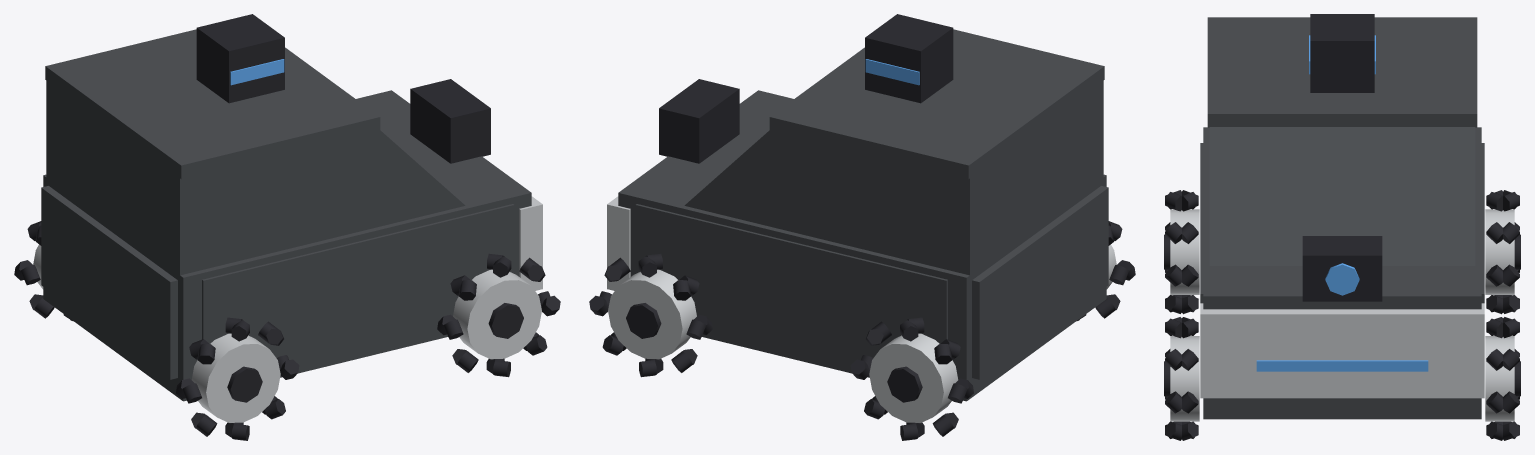
Rendered from ugv_m1.glb.
3 renders of one model, left to right at view 1: azimuth 30°, elevation 25°; view 2: azimuth 150°, elevation 25°; view 3: azimuth 270°, elevation 25°, orthographic.
Parts seen in each view (by area): view 1: Deck, SideArmorL, Roof, Hull, RearPanel, WheelFL, WheelRL, Lidar, FrontCamera, NosePlate, WheelRR, LidarBand; view 2: Deck, SideArmorR, Roof, Hull, RearPanel, WheelFR, WheelRR, Lidar, FrontCamera, NosePlate, WheelRL, LidarBand; view 3: Deck, Roof, NosePlate, Hull, FrontCamera, Lidar, WheelFL, WheelFR, WheelRL, WheelRR, NoseLed, SideArmorR (+1 smaller).
Boxes of the visible parts, x1=… form: Deck: x1=46, y1=80, x2=465, y2=275; SideArmorL: x1=202, y1=204, x2=514, y2=357; Roof: x1=45, y1=29, x2=380, y2=178; Hull: x1=43, y1=90, x2=531, y2=401; RearPanel: x1=41, y1=186, x2=177, y2=379; WheelFL: x1=437, y1=253, x2=560, y2=377; WheelRL: x1=176, y1=317, x2=299, y2=440; Lidar: x1=196, y1=14, x2=284, y2=103; FrontCamera: x1=410, y1=79, x2=490, y2=163; NosePlate: x1=519, y1=196, x2=542, y2=290; WheelRR: x1=14, y1=221, x2=73, y2=321; LidarBand: x1=230, y1=59, x2=284, y2=85; Deck: x1=684, y1=80, x2=1103, y2=275; SideArmorR: x1=635, y1=204, x2=947, y2=357; Roof: x1=769, y1=29, x2=1104, y2=178; Hull: x1=618, y1=90, x2=1106, y2=401; RearPanel: x1=972, y1=186, x2=1108, y2=379; WheelFR: x1=589, y1=253, x2=712, y2=377; WheelRR: x1=850, y1=317, x2=973, y2=440; Lidar: x1=865, y1=14, x2=953, y2=103; FrontCamera: x1=659, y1=79, x2=739, y2=163; NosePlate: x1=607, y1=196, x2=630, y2=290; WheelRL: x1=1076, y1=221, x2=1135, y2=321; LidarBand: x1=865, y1=59, x2=919, y2=85; Deck: x1=1209, y1=127, x2=1475, y2=265; Roof: x1=1207, y1=17, x2=1477, y2=127; NosePlate: x1=1200, y1=303, x2=1484, y2=398; Hull: x1=1203, y1=127, x2=1481, y2=419; FrontCamera: x1=1302, y1=236, x2=1382, y2=301; Lidar: x1=1310, y1=14, x2=1374, y2=92; WheelFL: x1=1164, y1=317, x2=1199, y2=440; WheelFR: x1=1485, y1=317, x2=1520, y2=440; WheelRL: x1=1164, y1=190, x2=1199, y2=314; WheelRR: x1=1485, y1=190, x2=1520, y2=314; NoseLed: x1=1256, y1=360, x2=1428, y2=371; SideArmorR: x1=1481, y1=143, x2=1484, y2=303.
Size of the model in its own units: 0.3 by 0.25 by 0.25.
